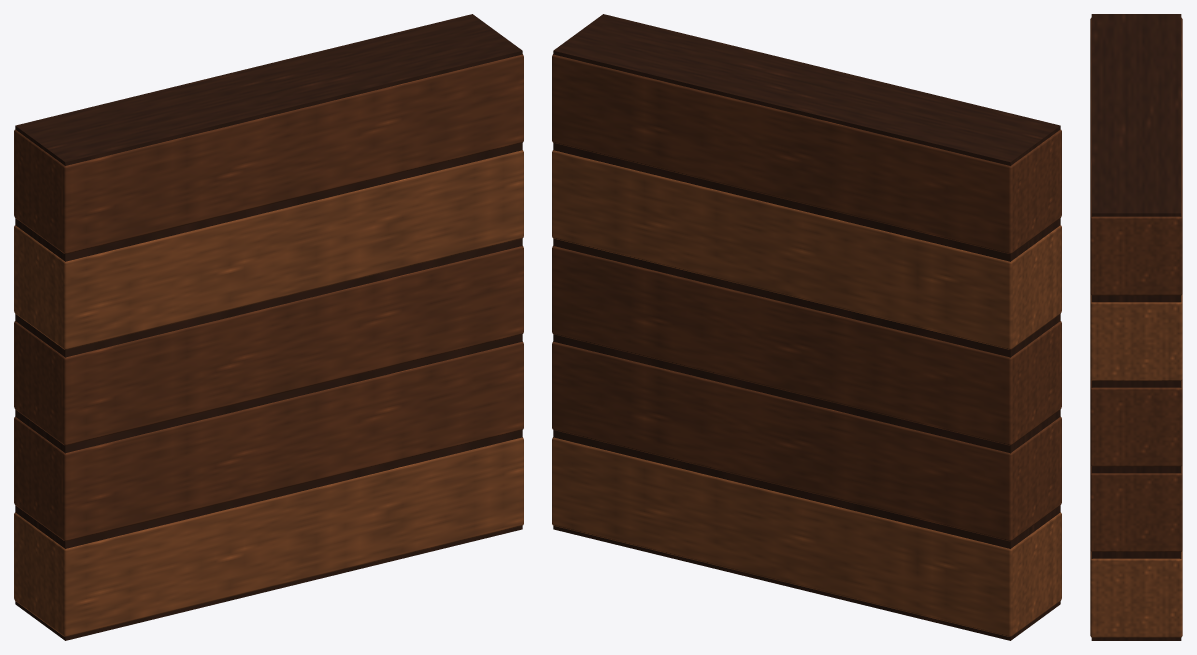
File: parede-madeira.glb
The picture shows the model from 3 angles, left to right: view 1: azimuth 30°, elevation 25°; view 2: azimuth 150°, elevation 25°; view 3: azimuth 270°, elevation 25°; orthographic projection. The views are drawn at different scales.
Parts seen in each view (by area): view 1: Tábua contínua.006, Tábua contínua.005, Núcleo de madeira.001; view 2: Tábua contínua.006, Tábua contínua.005, Núcleo de madeira.001; view 3: Tábua contínua.006, Núcleo de madeira.001, Tábua contínua.005.
Boxes of the visible parts, x1,y1,x2,y2 form: Tábua contínua.006: (14, 54, 523, 541); Tábua contínua.005: (14, 150, 523, 636); Núcleo de madeira.001: (15, 14, 522, 640); Tábua contínua.006: (552, 54, 1061, 541); Tábua contínua.005: (552, 150, 1061, 636); Núcleo de madeira.001: (553, 14, 1060, 640); Tábua contínua.006: (1090, 17, 1182, 551); Núcleo de madeira.001: (1091, 14, 1181, 640); Tábua contínua.005: (1090, 294, 1182, 637).
Bounding box in the file's own units: 1.01 × 1 × 0.196.
3 materials, 3 textured.
